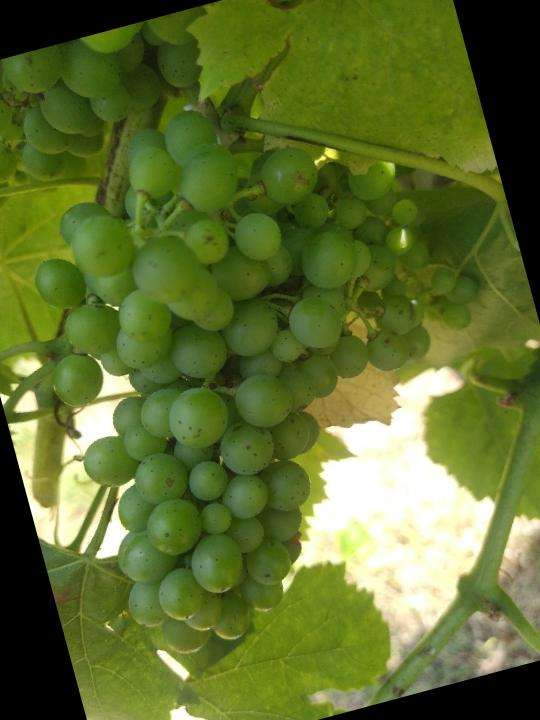grape: (0, 47, 540, 677)
